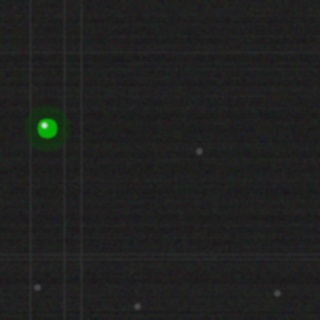green_normal: (35, 116, 59, 140)
